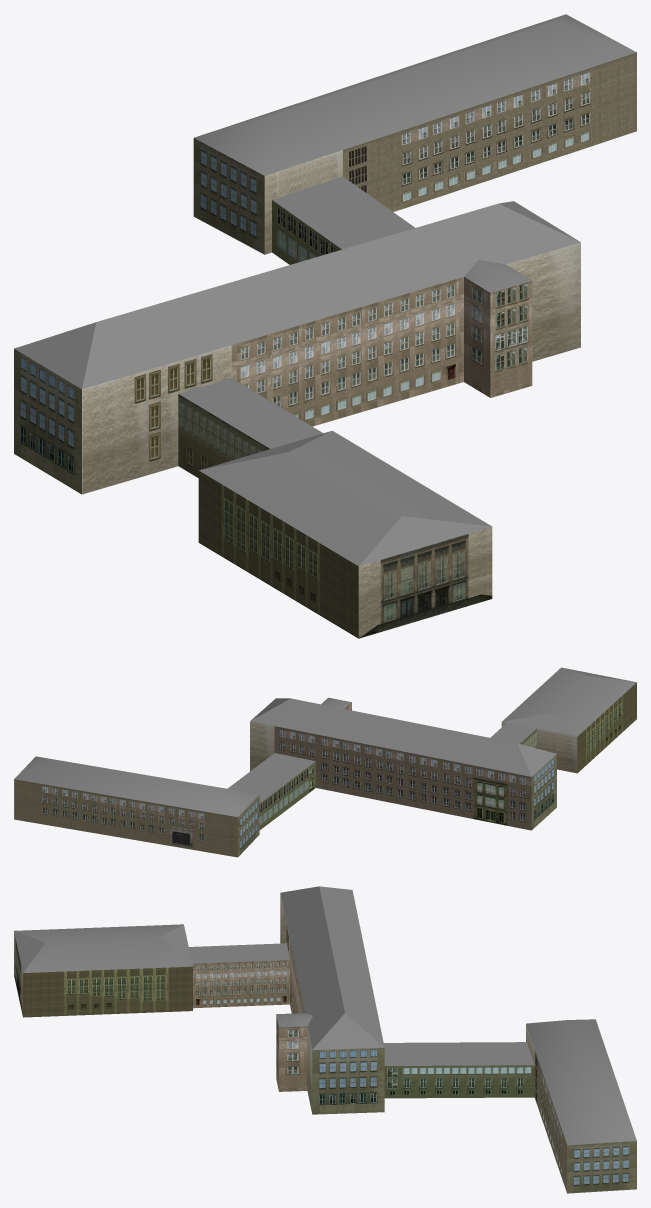
The model's file is Gerhart-Potthoff-Bau.gltf.
3 views of the same model, one above another, from view 1: azimuth 30°, elevation 25°; view 2: azimuth 150°, elevation 25°; view 3: azimuth 270°, elevation 25° (orthographic). The views are drawn at different scales.
Visible parts, largest first — view 1: Dach.1; view 2: Dach.1; view 3: Dach.1.
Boxes of the visible parts, x1,y1,x2,y2 form: Dach.1: (14, 14, 636, 638); Dach.1: (14, 667, 636, 857); Dach.1: (14, 886, 636, 1193).
Size of the model in its own units: 127 by 21 by 140.
18 materials, 17 textured.
